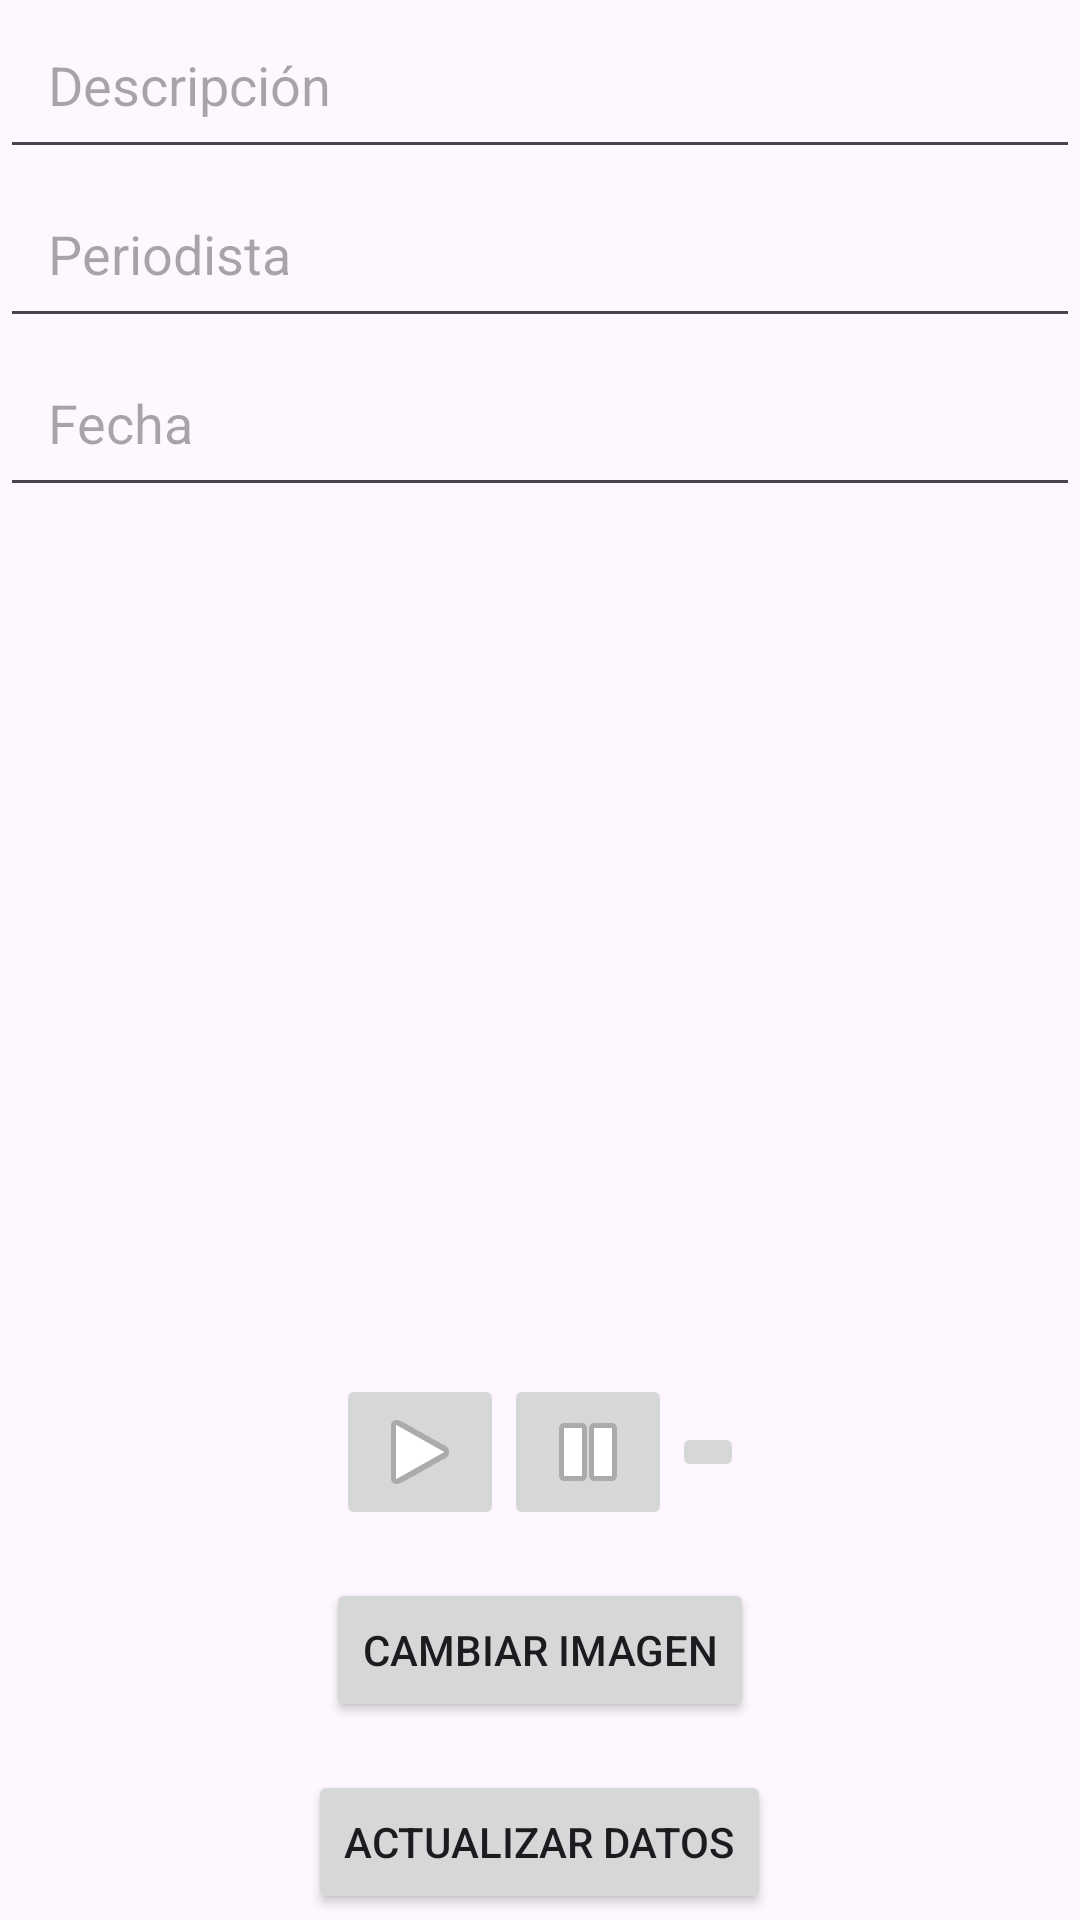

Named icons in this screenshot (1080*1920) and their bounding boxes, (x1, y1, x2, y2):
Pausar: (516, 1392, 660, 1512)
Reproducir: (348, 1392, 492, 1512)
